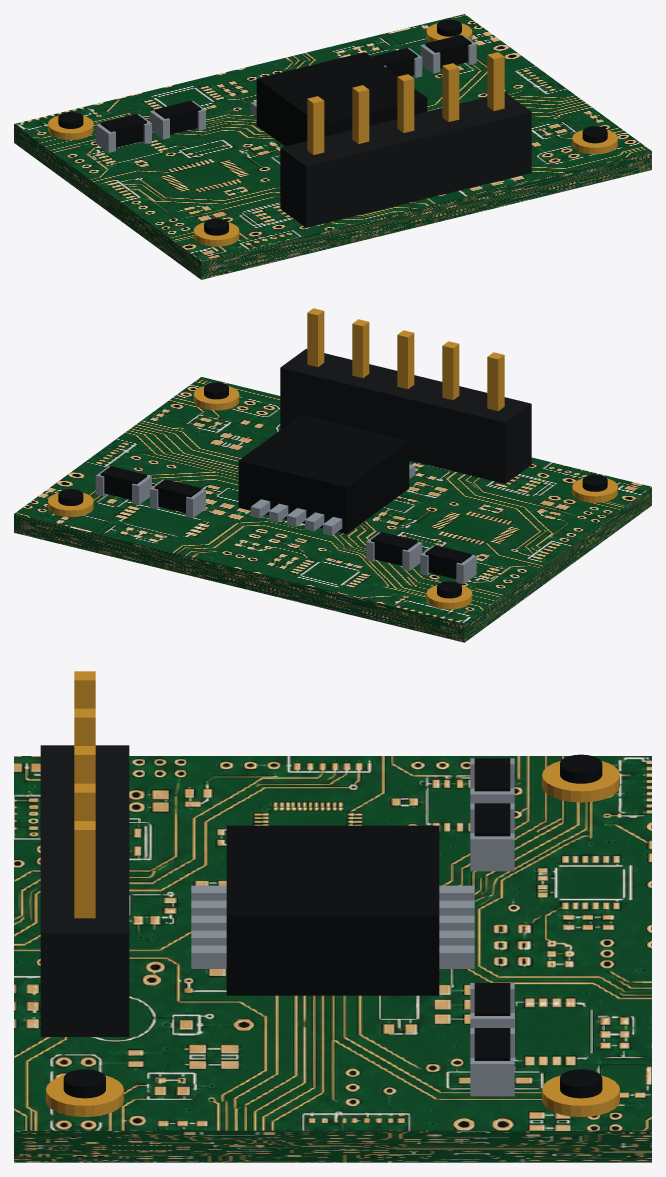
The model's file is imu_link.dae.
3 renders of one model, top to bottom at view 1: azimuth 30°, elevation 25°; view 2: azimuth 150°, elevation 25°; view 3: azimuth 270°, elevation 25°, orthographic. The views are drawn at different scales.
Visible parts, largest first — view 1: imu_link_pcb, imu_link_rubber, imu_link_chip, imu_link_gold, imu_link_metal; view 2: imu_link_pcb, imu_link_chip, imu_link_rubber, imu_link_gold, imu_link_metal; view 3: imu_link_pcb, imu_link_chip, imu_link_rubber, imu_link_metal, imu_link_gold.
Part boxes in pixels (x1,y1,x2,y2): imu_link_pcb: (14,14,651,279); imu_link_rubber: (280,92,531,227); imu_link_chip: (58,19,607,235); imu_link_gold: (48,23,617,246); imu_link_metal: (95,35,476,152); imu_link_pcb: (14,377,651,642); imu_link_chip: (58,382,607,598); imu_link_rubber: (280,348,531,483); imu_link_gold: (48,308,617,609); imu_link_metal: (95,464,476,584); imu_link_pcb: (14,756,651,1162); imu_link_chip: (63,754,602,1098); imu_link_rubber: (40,745,129,1036); imu_link_metal: (191,758,514,1096); imu_link_gold: (46,671,619,1116).
Bounding box in the file's own units: 0.05 × 0.036 × 0.014.
Materials: 5 (1 with a texture image).
